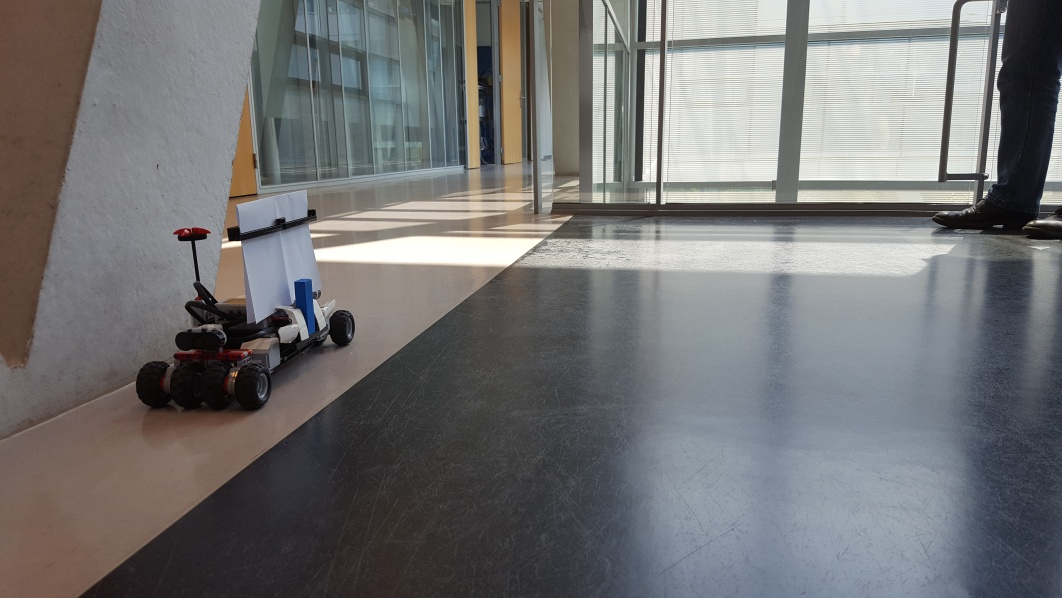car: (135, 188, 354, 411)
